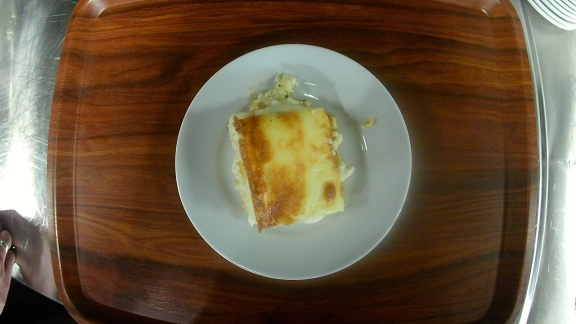firinmakarna: (174, 42, 414, 281)
